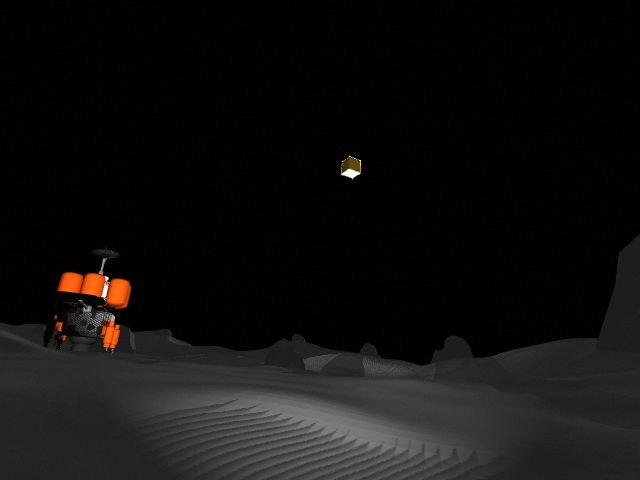homebase: (40, 246, 133, 355)
